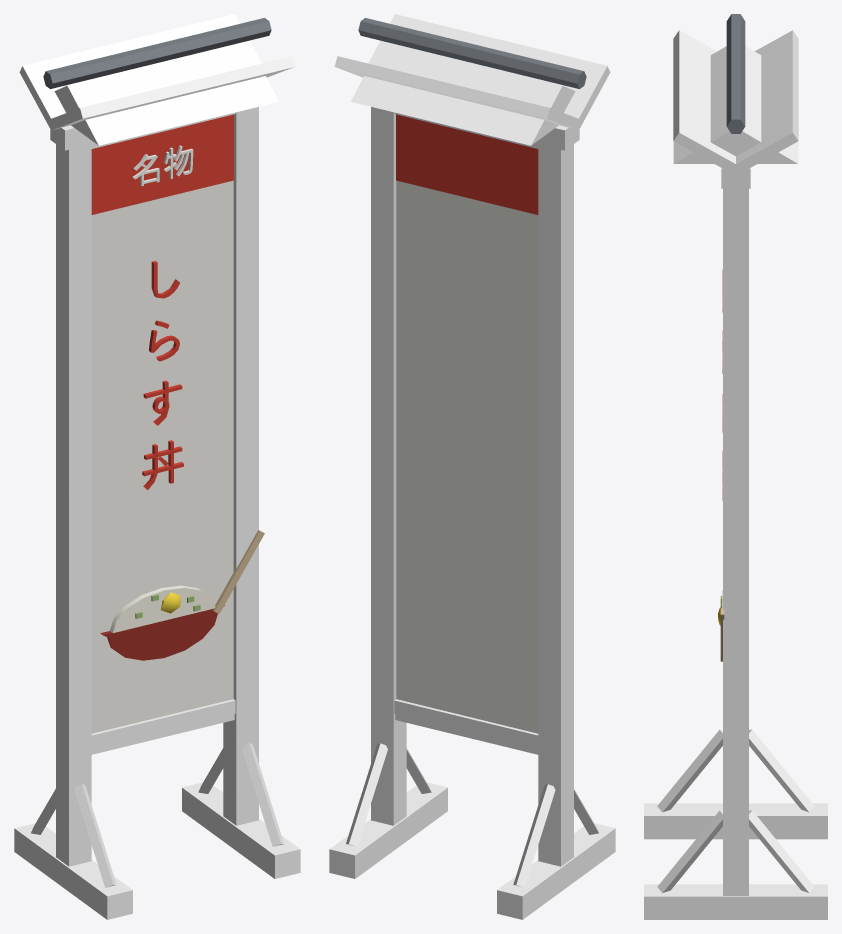
Rendered from kanban_shirasu.glb.
3 views of the same model, side by side, from view 1: azimuth 30°, elevation 25°; view 2: azimuth 150°, elevation 25°; view 3: azimuth 270°, elevation 25° (orthographic).
Parts seen in each view (by area): view 1: kanban_shirasu_body; view 2: kanban_shirasu_body; view 3: kanban_shirasu_body.
Part boxes in pixels (x1,y1,x2,y2): kanban_shirasu_body: (14,14,300,919); kanban_shirasu_body: (329,14,615,919); kanban_shirasu_body: (644,14,827,919).
Size of what is drawn, in the model's own units: 0.68 by 2.42 by 0.5.
